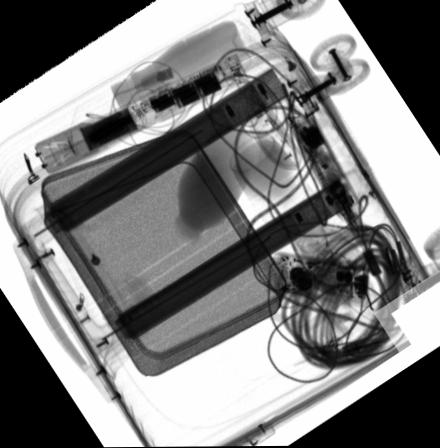Baton: (32, 51, 246, 173)
